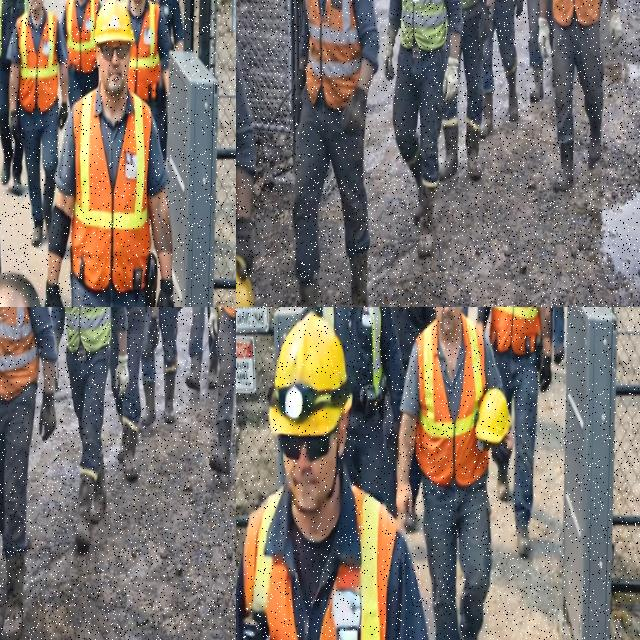Vest: (71, 89, 151, 292), (416, 315, 488, 486), (320, 488, 396, 639), (305, 0, 361, 109), (16, 12, 58, 112), (0, 307, 39, 400), (128, 1, 160, 100), (401, 0, 447, 51), (490, 307, 539, 354), (66, 0, 97, 72), (65, 307, 111, 353), (553, 0, 599, 27), (370, 307, 382, 393), (461, 0, 481, 9), (222, 307, 235, 318), (0, 0, 2, 56), (236, 206, 237, 210)
Worker: (236, 313, 428, 639), (45, 0, 174, 306), (398, 307, 510, 639), (293, 0, 378, 306), (384, 0, 462, 257), (52, 307, 128, 553), (0, 307, 56, 639), (315, 307, 404, 514), (478, 307, 551, 557), (8, 0, 68, 247), (552, 0, 603, 191), (110, 307, 158, 481), (128, 0, 170, 159), (460, 0, 495, 181), (480, 0, 523, 137), (0, 0, 28, 194), (236, 41, 255, 306), (209, 307, 235, 475), (61, 0, 100, 107), (392, 307, 435, 372), (159, 307, 182, 423), (186, 307, 209, 390), (0, 273, 41, 306), (551, 307, 564, 360), (554, 308, 564, 364), (549, 14, 553, 47), (462, 307, 468, 315), (600, 0, 604, 4), (0, 257, 0, 273)
helmet: (269, 313, 351, 436), (475, 389, 511, 444), (95, 0, 133, 44), (236, 257, 253, 306)
